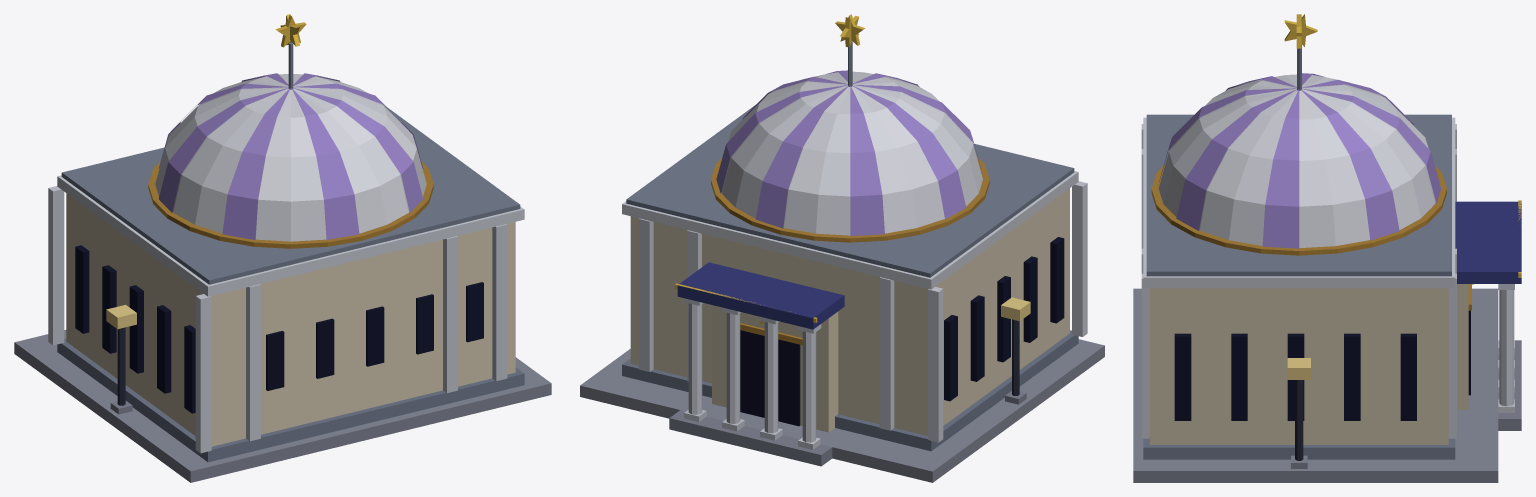
File: Decor_Observatory_Planetarium.fbx
3 renders of one model, left to right at view 1: azimuth 30°, elevation 25°; view 2: azimuth 150°, elevation 25°; view 3: azimuth 270°, elevation 25°, orthographic. The views are drawn at different scales.
Parts seen in each view (by area): view 1: Planetarium_Body; view 2: Planetarium_Body; view 3: Planetarium_Body.
Boxes of the visible parts, left/top/right/bottom form: Planetarium_Body: left=14, top=14, right=551, bottom=482; Planetarium_Body: left=580, top=14, right=1104, bottom=482; Planetarium_Body: left=1133, top=14, right=1521, bottom=482.
Bounding box in the file's own units: 26 × 25.1 × 23.4.
